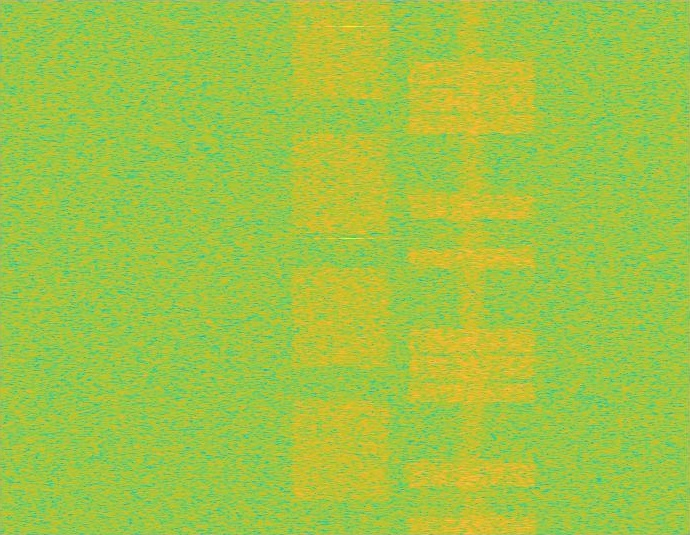5G: (289, 0, 393, 534)
DSSS: (457, 0, 488, 534)
LTE: (403, 0, 541, 534)
Radar: (345, 0, 358, 534)
